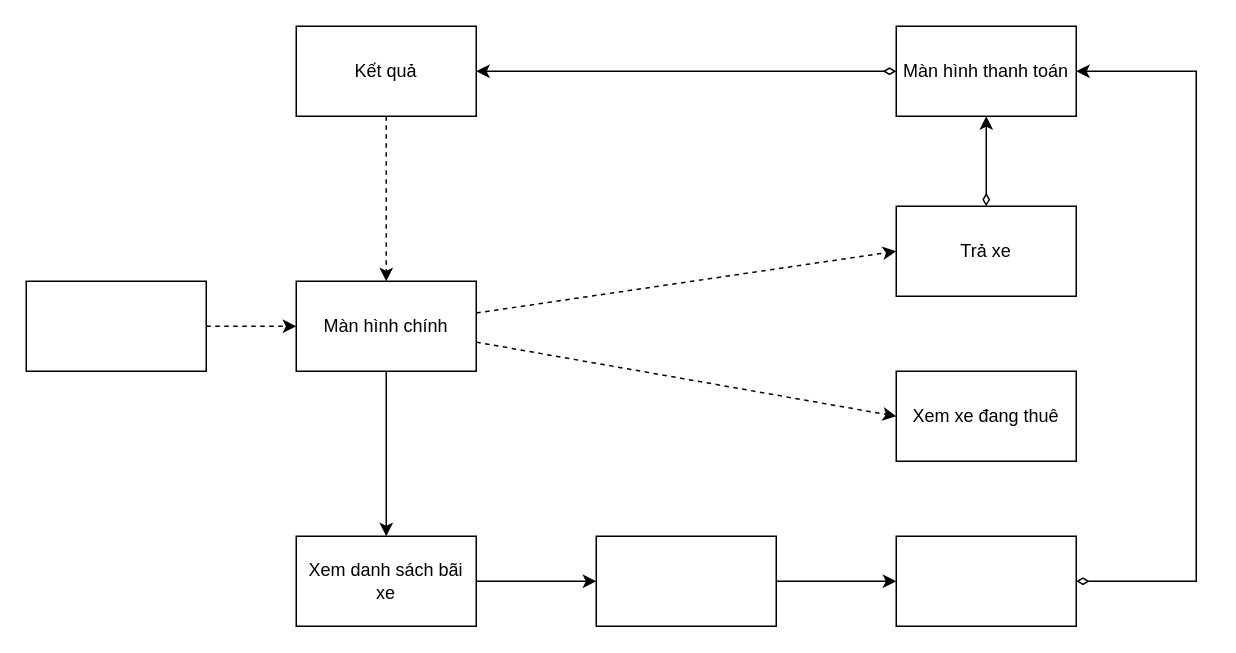
The diagram is 1236 pixels wide and 653 high, and some of its shapes have lost their labels. The box of each missing label's shape, as (x1, y1, x2, y2) in pixels:
Splash: (25, 280, 206, 371)
Thuê xe: (895, 535, 1076, 626)
Xem thông tin bãi xe: (595, 535, 776, 626)
